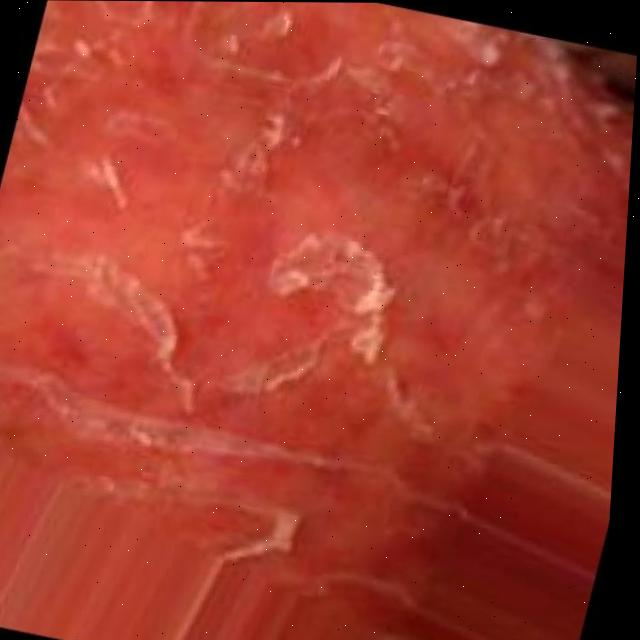Eczema: (0, 0, 590, 538)
